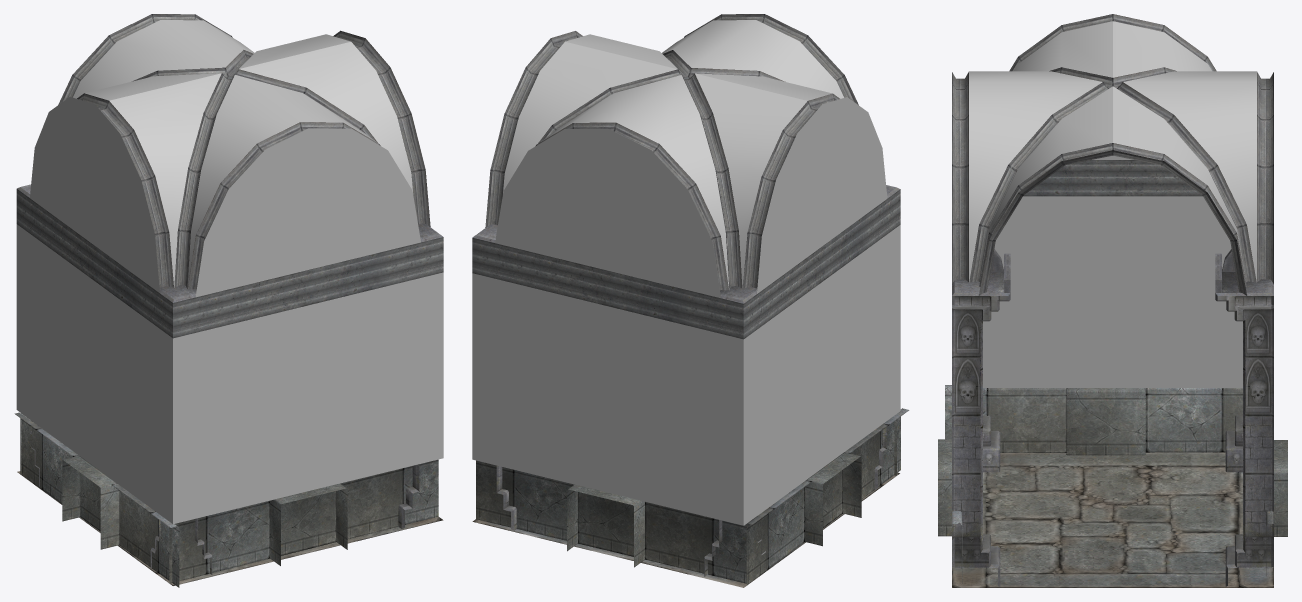
The model's file is closed_tunnel.FBX.
3 renders of one model, left to right at view 1: azimuth 30°, elevation 25°; view 2: azimuth 150°, elevation 25°; view 3: azimuth 270°, elevation 25°, orthographic. The views are drawn at different scales.
Visible parts, largest first — view 1: closed_tunnel; view 2: closed_tunnel; view 3: closed_tunnel.
Boxes of the visible parts, x1=… form: closed_tunnel: x1=14, y1=14, x2=443, y2=587; closed_tunnel: x1=472, y1=14, x2=909, y2=587; closed_tunnel: x1=938, y1=14, x2=1287, y2=587.
Size of the model in its own units: 531 by 750 by 543.
